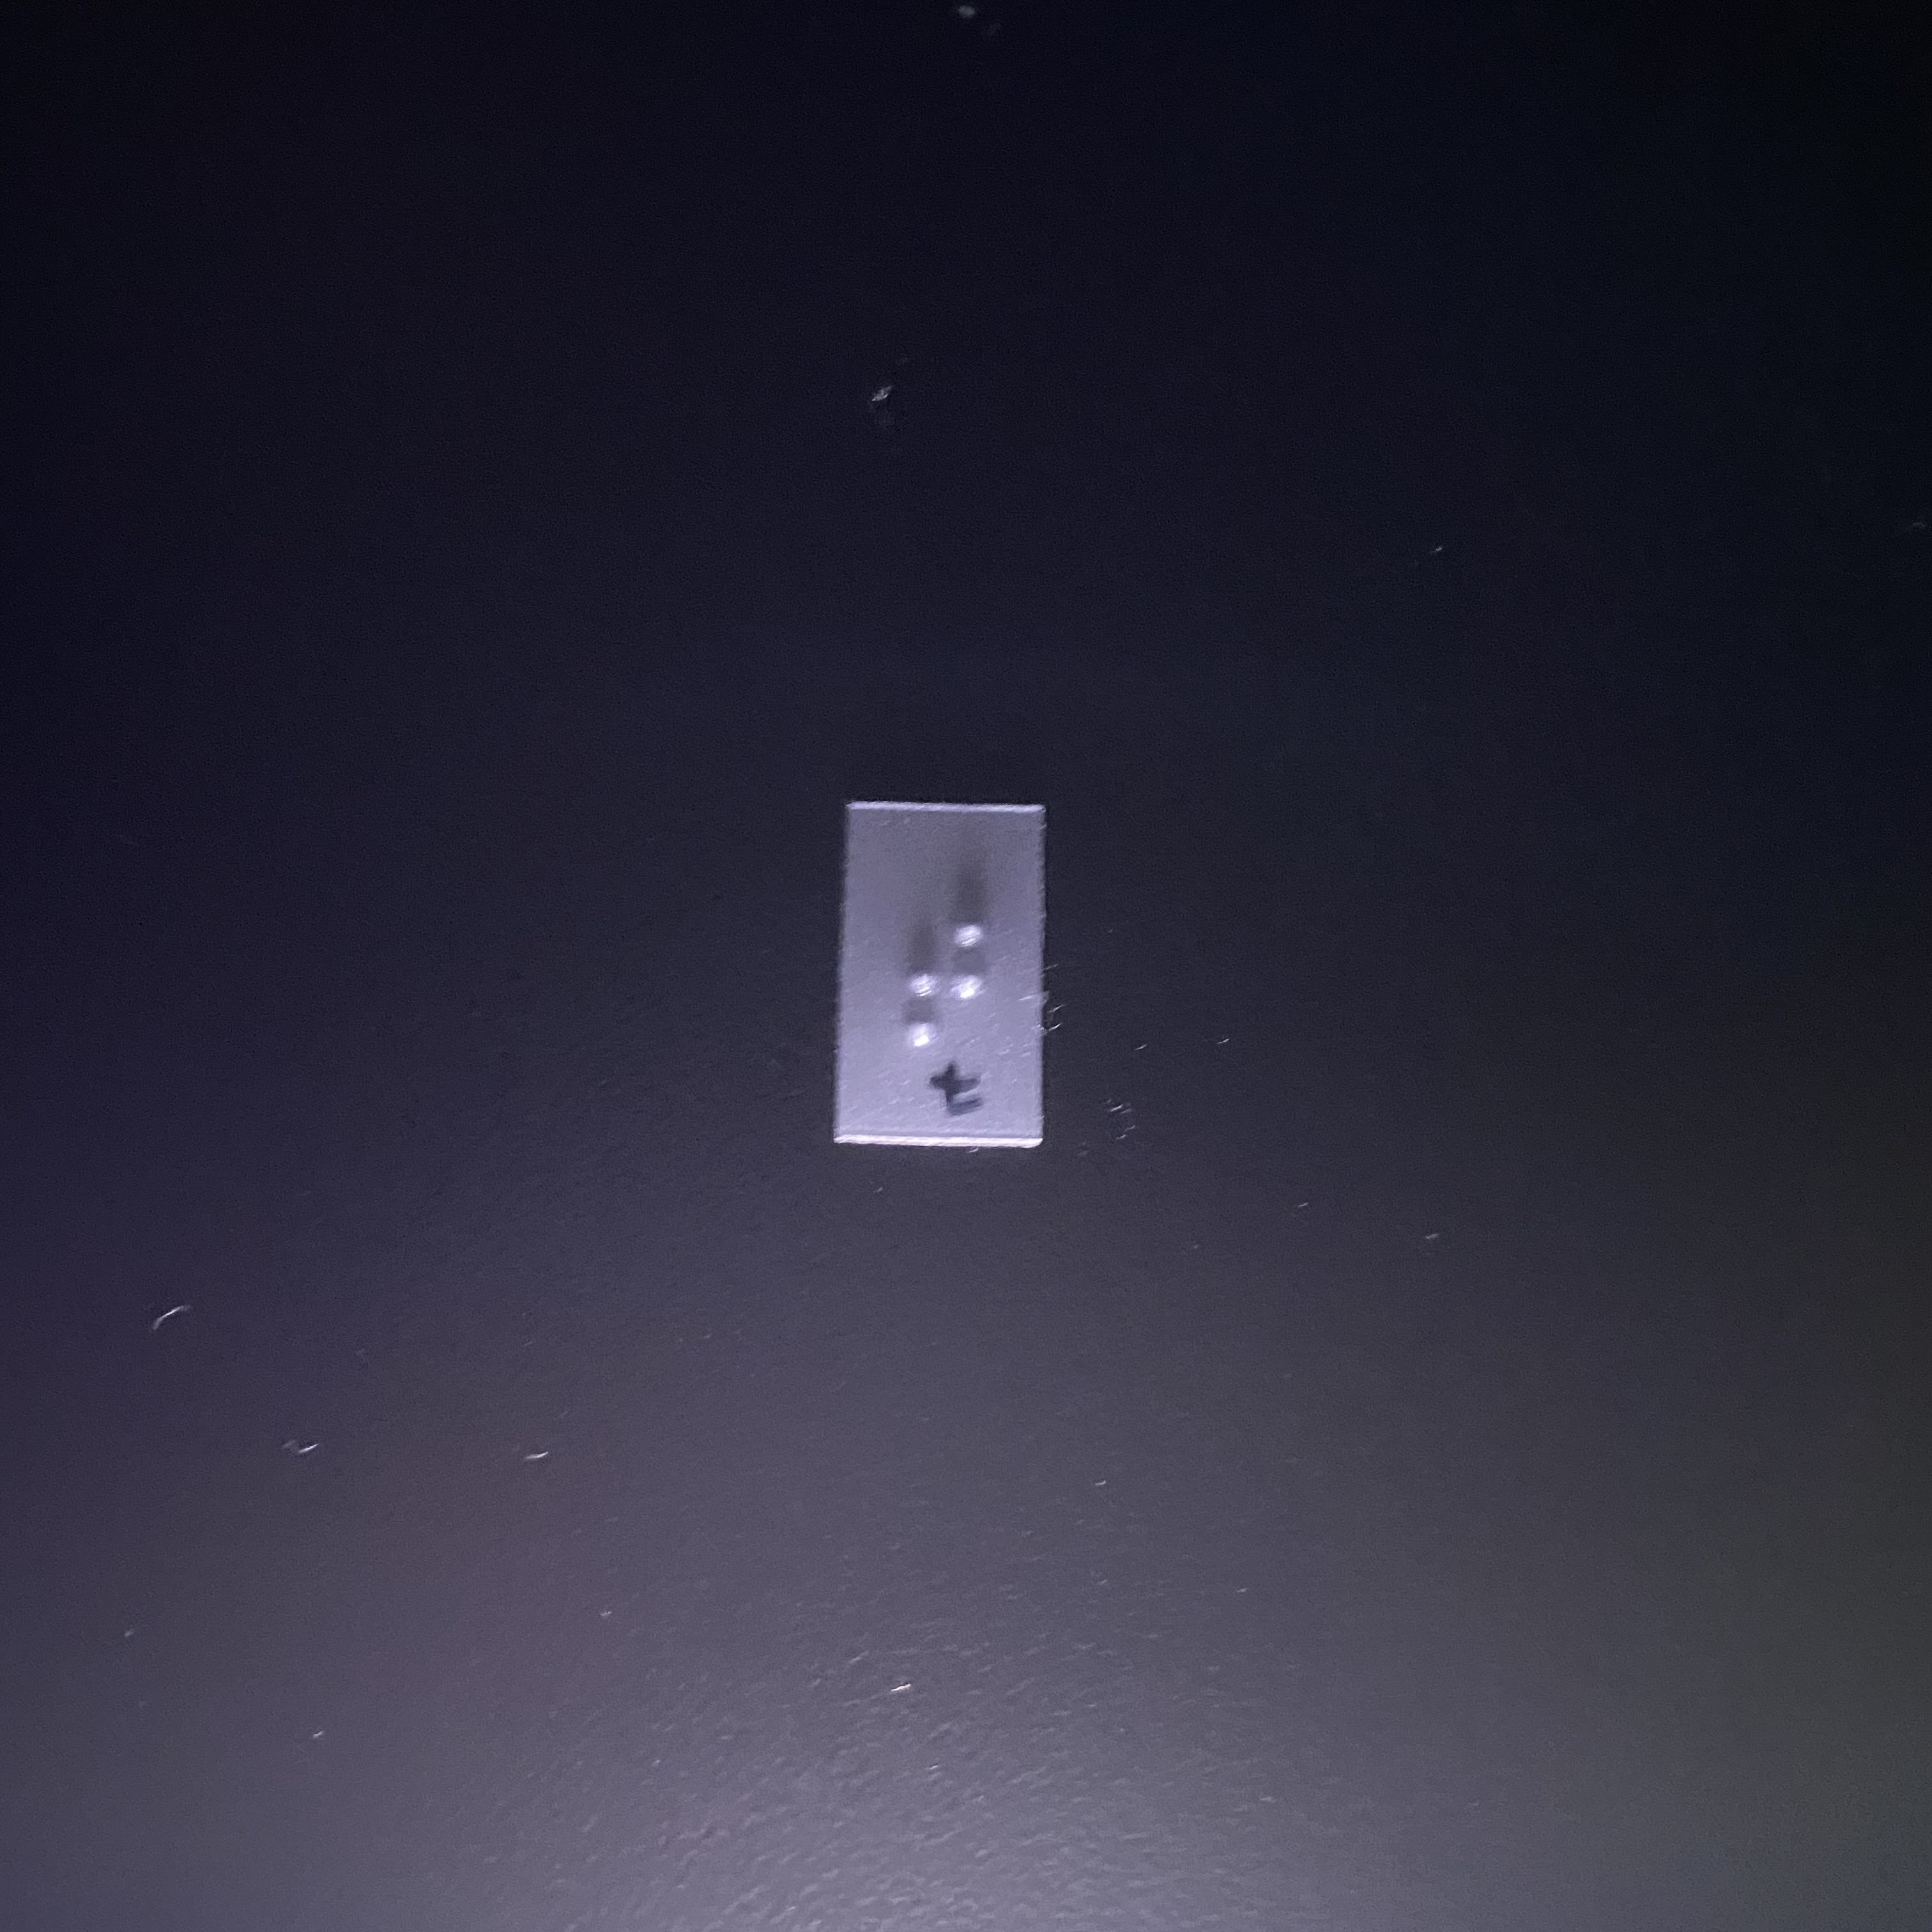t: (888, 879, 1005, 1064)
